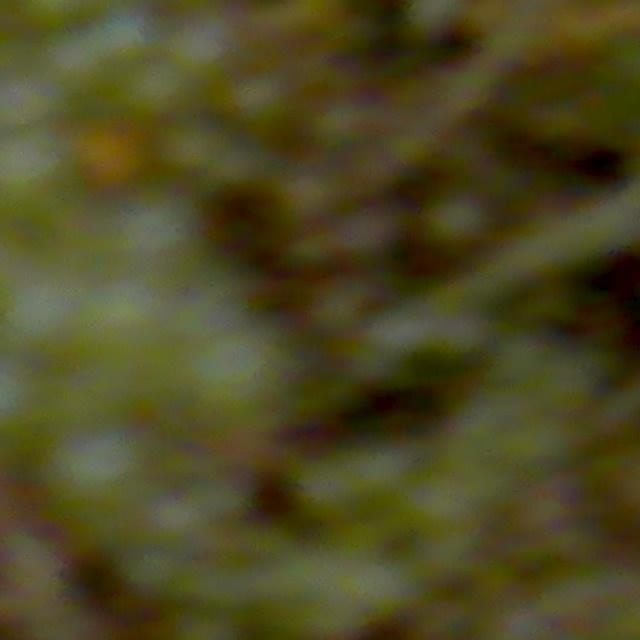SeaGrape: (0, 263, 81, 374), (177, 331, 270, 427), (0, 141, 78, 246), (60, 426, 141, 504), (89, 301, 159, 382), (126, 193, 196, 267), (169, 11, 239, 81), (123, 58, 190, 121), (93, 9, 155, 67), (159, 119, 222, 175)
